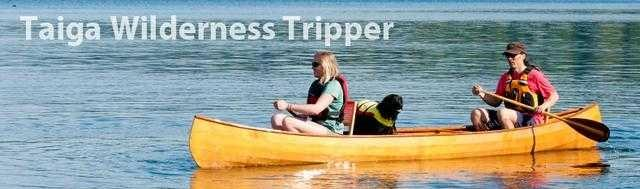kayak: (187, 101, 612, 165)
